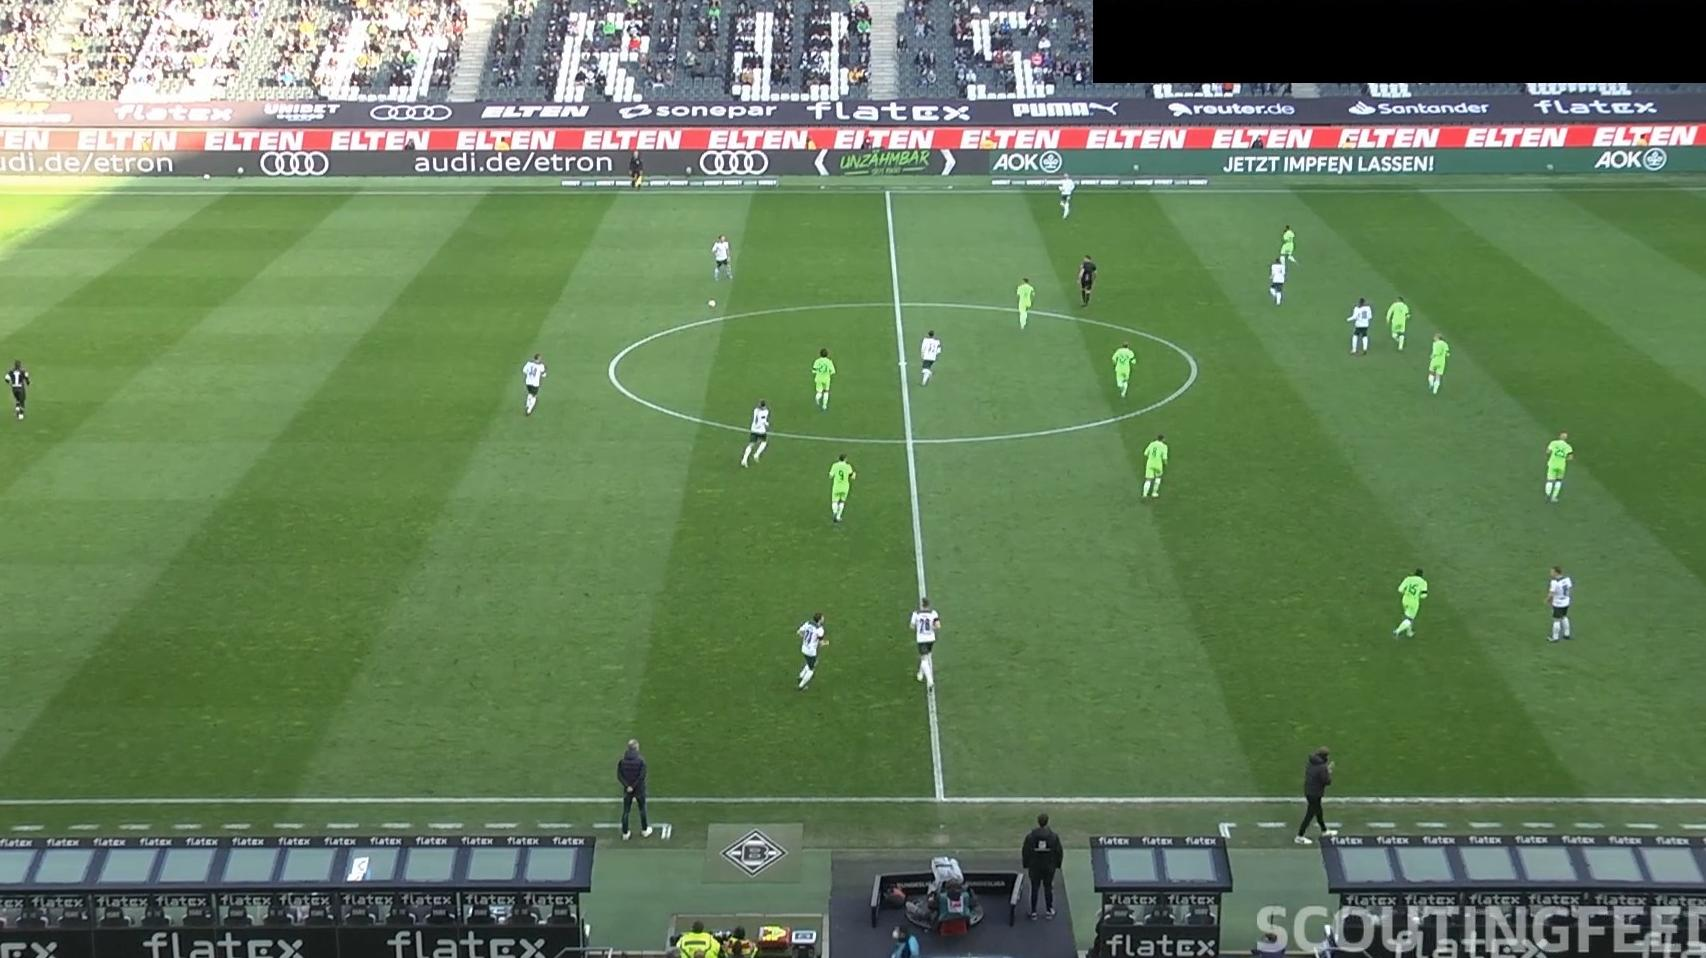ball: (707, 299, 717, 309)
